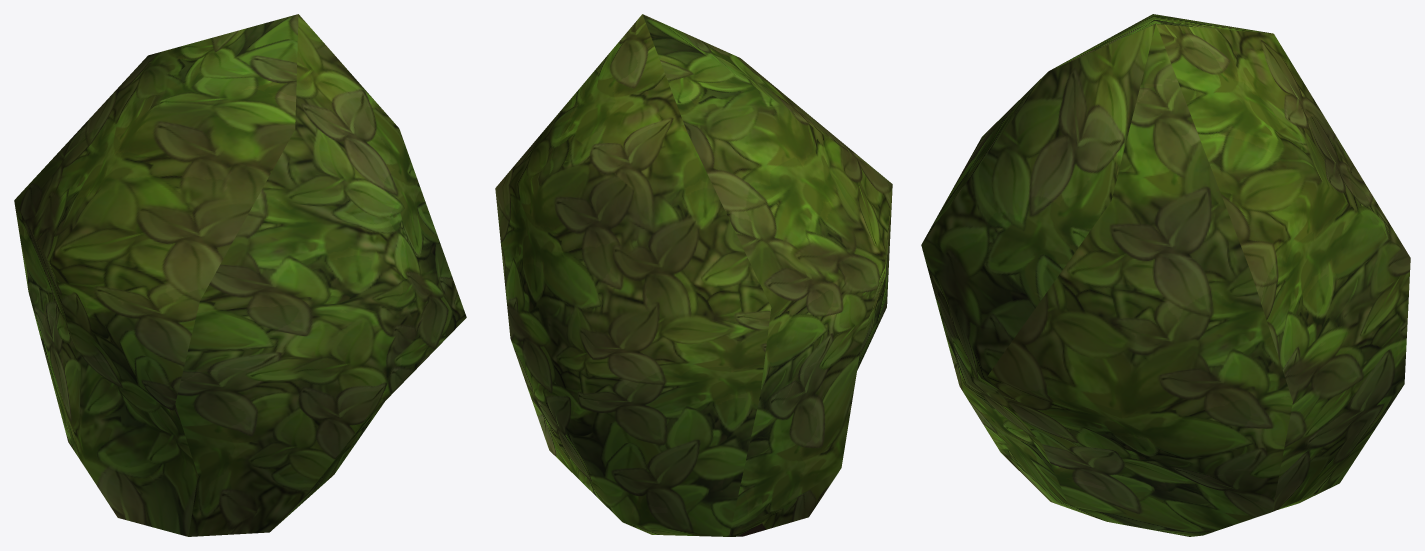
The model's file is fanasty_mod_med_round_bush.fbx.
3 renders of one model, left to right at view 1: azimuth 30°, elevation 25°; view 2: azimuth 150°, elevation 25°; view 3: azimuth 270°, elevation 25°, orthographic. The views are drawn at different scales.
Visible parts, largest first — view 1: med_round_bush; view 2: med_round_bush; view 3: med_round_bush.
Part boxes in pixels (bbox=[...]): med_round_bush: bbox=[14, 14, 466, 536]; med_round_bush: bbox=[495, 14, 892, 536]; med_round_bush: bbox=[921, 14, 1410, 536].
Bounding box in the file's own units: 2.13 × 2.53 × 2.16.
